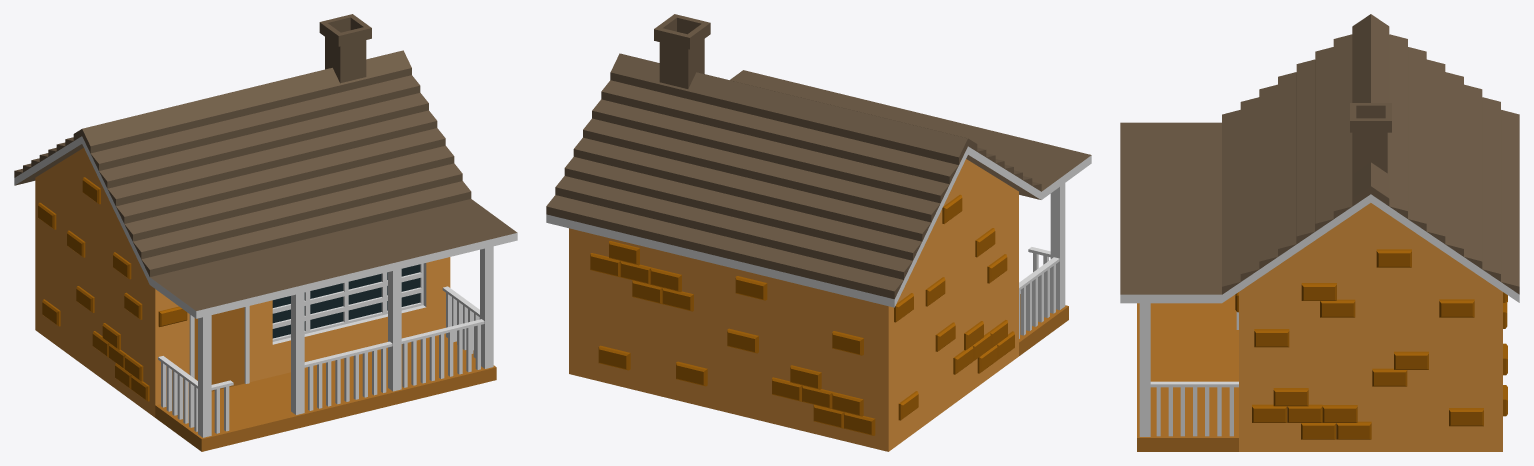
File: 24 House_5.fbx
The picture shows the model from 3 angles, left to right: view 1: azimuth 30°, elevation 25°; view 2: azimuth 150°, elevation 25°; view 3: azimuth 270°, elevation 25°; orthographic projection. The views are drawn at different scales.
Visible parts, largest first — view 1: House_5; view 2: House_5; view 3: House_5.
Part boxes in pixels (box(x1,y1,x2,y2)): House_5: box(14, 14, 517, 451); House_5: box(546, 14, 1091, 451); House_5: box(1120, 14, 1519, 451).
Size of the model in its own units: 121 by 104 by 119.
